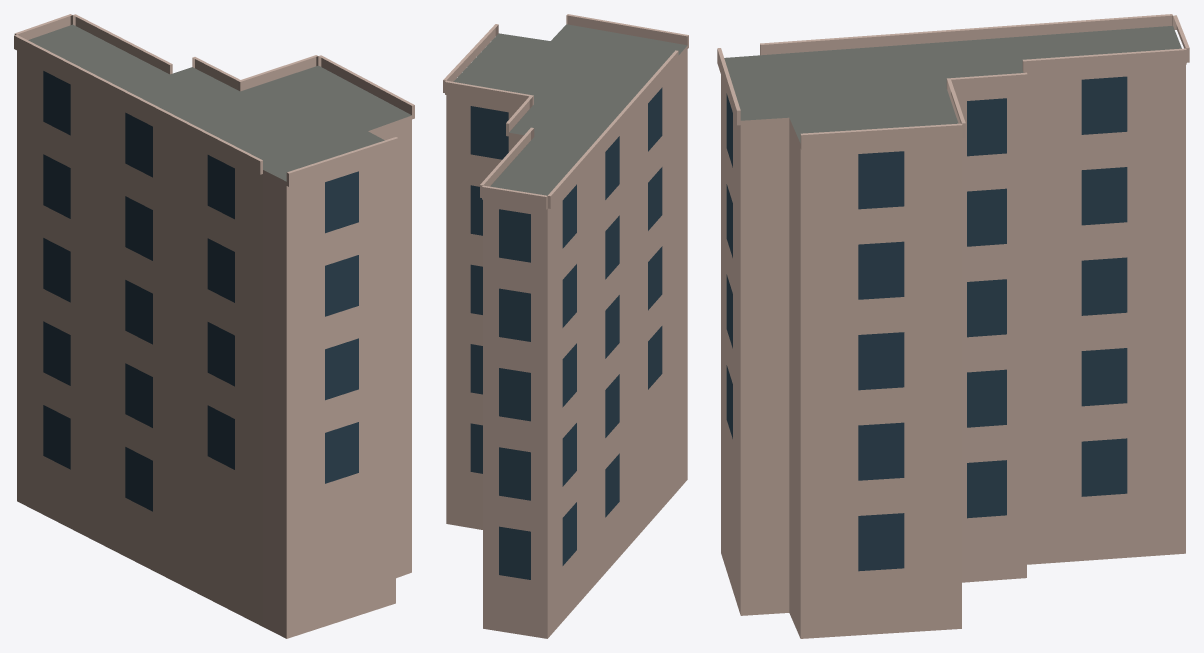
The picture shows the model from 3 angles, left to right: view 1: azimuth 30°, elevation 25°; view 2: azimuth 150°, elevation 25°; view 3: azimuth 270°, elevation 25°; orthographic projection. The views are drawn at different scales.
Parts seen in each view (by area): view 1: Footprint 0 / surface 2, Inset glazing, Footprint 0 / surface 1, Facade bay volumes; view 2: Footprint 0 / surface 2, Inset glazing, Footprint 0 / surface 1, Facade bay volumes; view 3: Footprint 0 / surface 2, Inset glazing, Footprint 0 / surface 1, Facade bay volumes.
Boxes of the visible parts, x1=… form: Footprint 0 / surface 2: x1=17, y1=50, x2=411, y2=638; Inset glazing: x1=43, y1=71, x2=358, y2=511; Footprint 0 / surface 1: x1=28, y1=24, x2=411, y2=181; Facade bay volumes: x1=14, y1=14, x2=414, y2=186; Footprint 0 / surface 2: x1=446, y1=46, x2=687, y2=638; Inset glazing: x1=470, y1=87, x2=662, y2=579; Footprint 0 / surface 1: x1=453, y1=24, x2=687, y2=195; Facade bay volumes: x1=443, y1=14, x2=688, y2=209; Footprint 0 / surface 2: x1=721, y1=64, x2=1185, y2=638; Inset glazing: x1=726, y1=76, x2=1127, y2=571; Footprint 0 / surface 1: x1=724, y1=25, x2=1181, y2=143; Facade bay volumes: x1=717, y1=14, x2=1189, y2=149.
Size of the model in its own units: 8.94 by 17.37 by 14.72.
